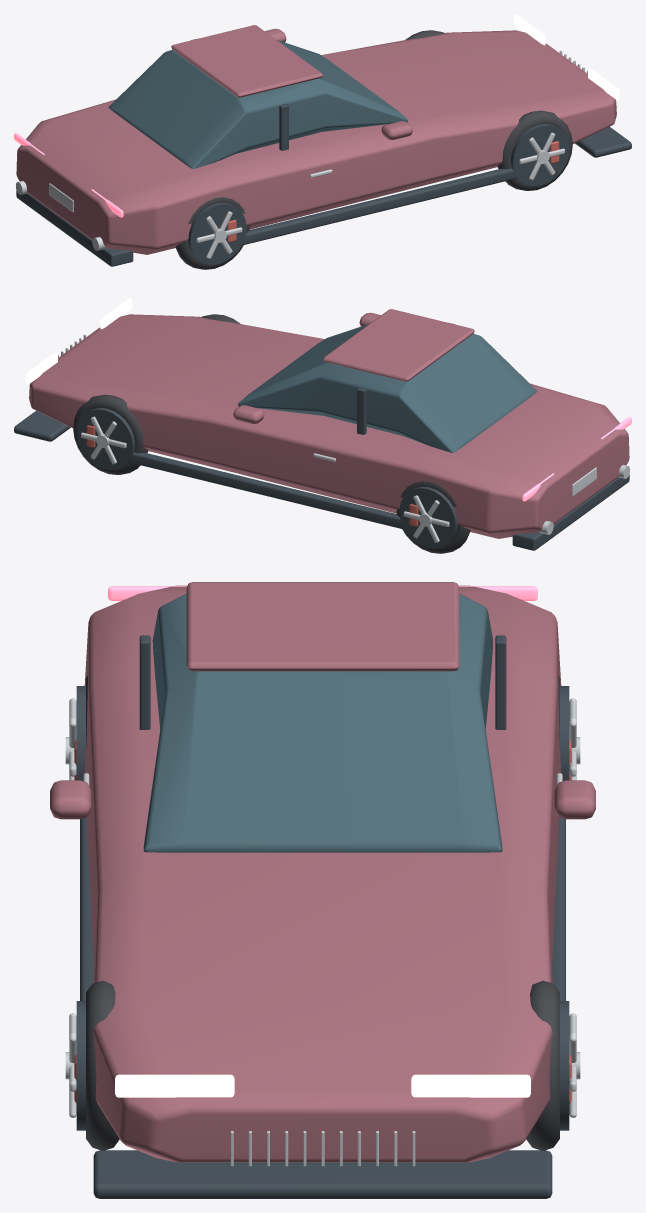
Rendered from SM_lux_grand.glb.
3 renders of one model, top to bottom at view 1: azimuth 30°, elevation 25°; view 2: azimuth 150°, elevation 25°; view 3: azimuth 270°, elevation 25°, orthographic. The views are drawn at different scales.
Parts seen in each view (by area): view 1: SM_lux_grand; view 2: SM_lux_grand; view 3: SM_lux_grand.
Part boxes in pixels (x1,y1,x2,y2): SM_lux_grand: [14, 14, 631, 269]; SM_lux_grand: [14, 298, 631, 553]; SM_lux_grand: [50, 582, 595, 1198].
Size of the model in its own units: 4.9 by 1.31 by 2.2.
